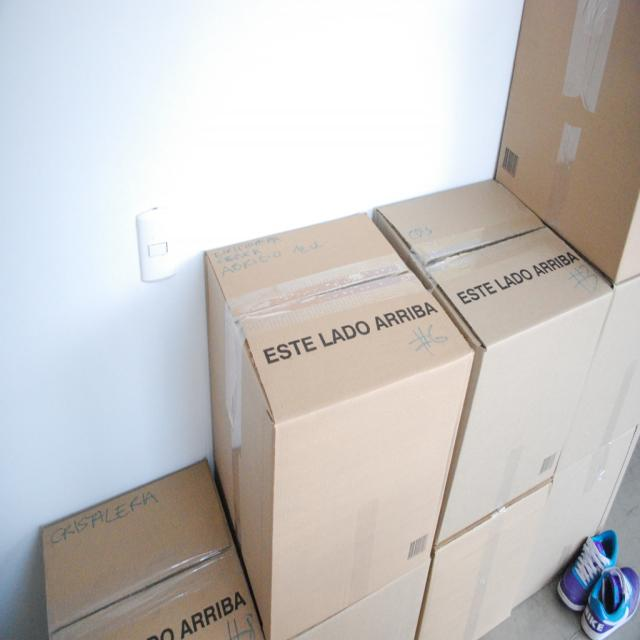Box: (43, 0, 640, 640)
